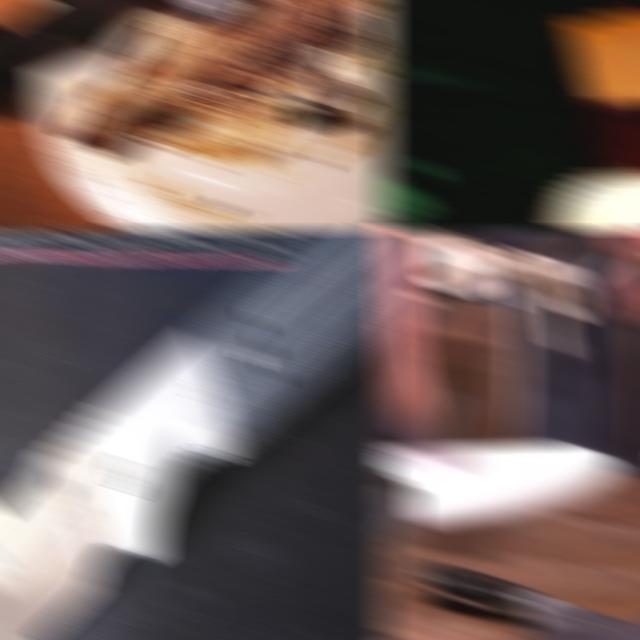Knife: (377, 441, 622, 529), (411, 558, 640, 640)
Knife_Handle: (506, 0, 640, 232)
